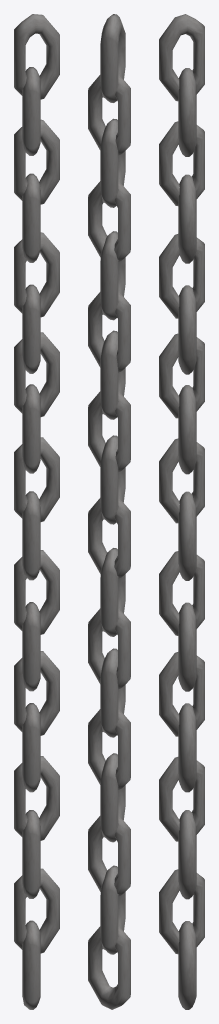
The model's file is LongChain.fbx.
3 views of the same model, side by side, from view 1: azimuth 90°, elevation 25°; view 2: azimuth 150°, elevation 25°; view 3: azimuth 270°, elevation 25° (orthographic).
Visible parts, largest first — view 1: LongChain; view 2: LongChain; view 3: LongChain.
Part boxes in pixels (bbox=[...]): LongChain: bbox=[14, 14, 59, 1009]; LongChain: bbox=[88, 14, 130, 1009]; LongChain: bbox=[159, 14, 204, 1009].
Bounding box in the file's own units: 15.76 × 372 × 15.54.
